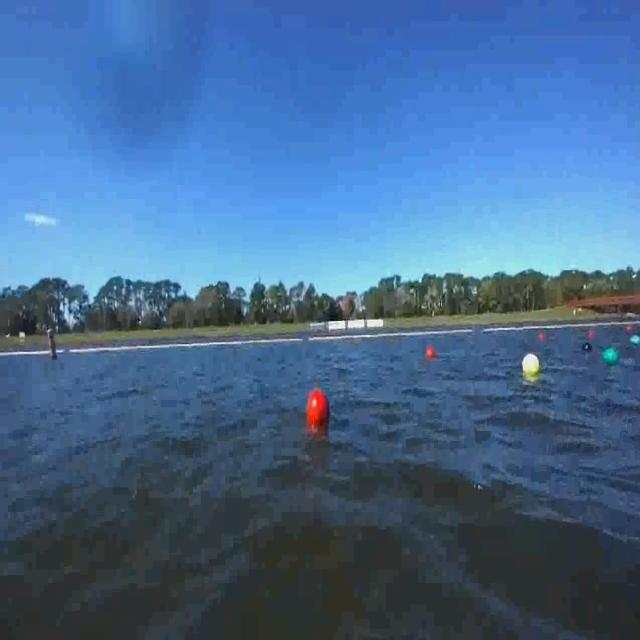black-buoy: (583, 342, 594, 353)
green-buoy: (605, 349, 621, 366), (629, 336, 640, 347)
red-buoy: (307, 391, 329, 432), (426, 346, 436, 361)
yellow-buoy: (522, 351, 541, 376)
